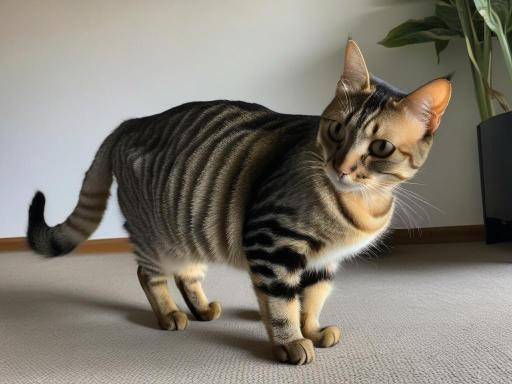cat_standing: (27, 38, 450, 364)
